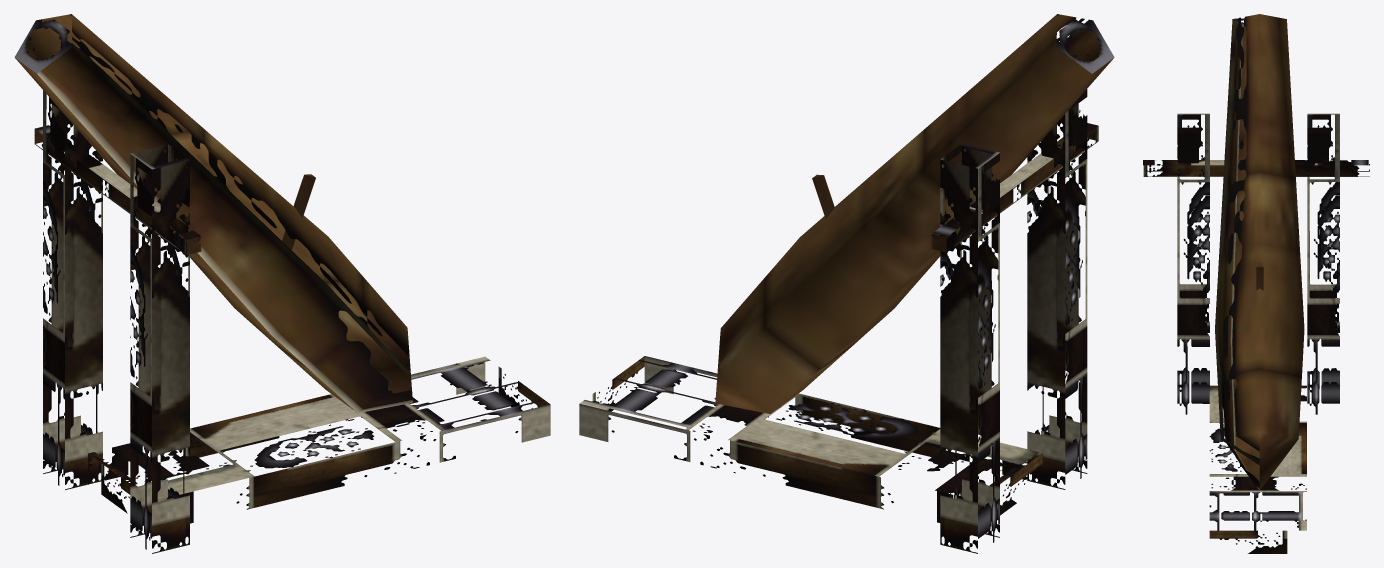
Rendered from Cannon03.obj.
The picture shows the model from 3 angles, left to right: view 1: azimuth 30°, elevation 25°; view 2: azimuth 150°, elevation 25°; view 3: azimuth 270°, elevation 25°; orthographic projection. The views are drawn at different scales.
Parts seen in each view (by area): view 1: Mesh_0; view 2: Mesh_0; view 3: Mesh_0.
Boxes of the visible parts, x1,y1,x2,y2 form: Mesh_0: [14, 14, 550, 553]; Mesh_0: [579, 14, 1114, 553]; Mesh_0: [1143, 14, 1369, 553].
Size of the model in its own units: 1.36 by 1.33 by 0.7265.
1 material, 1 textured.
